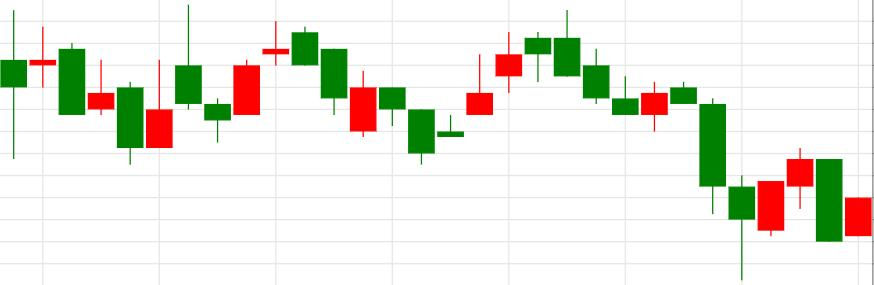hammer_rise: (554, 10, 756, 280)
